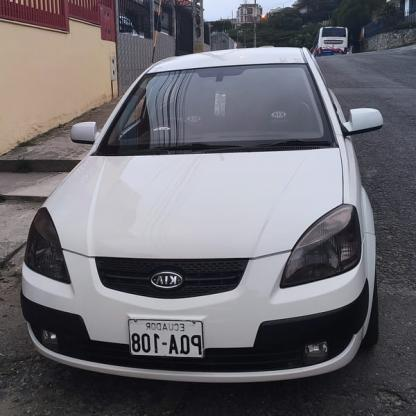Placa: (127, 316, 209, 356)
